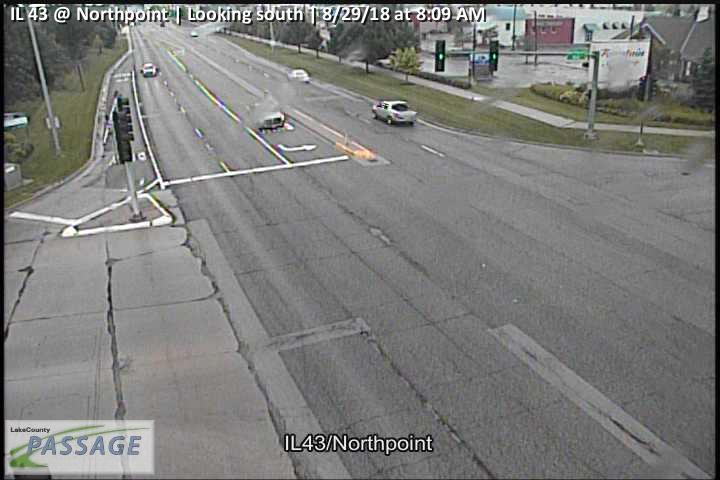Sedan: (286, 68, 309, 84), (141, 62, 157, 78)
Truck: (372, 100, 417, 125)
